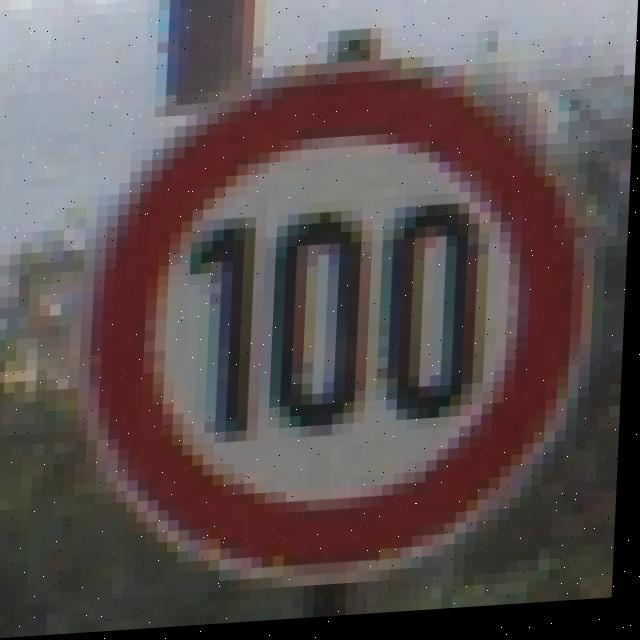speed_limit_100: (80, 53, 636, 579)
